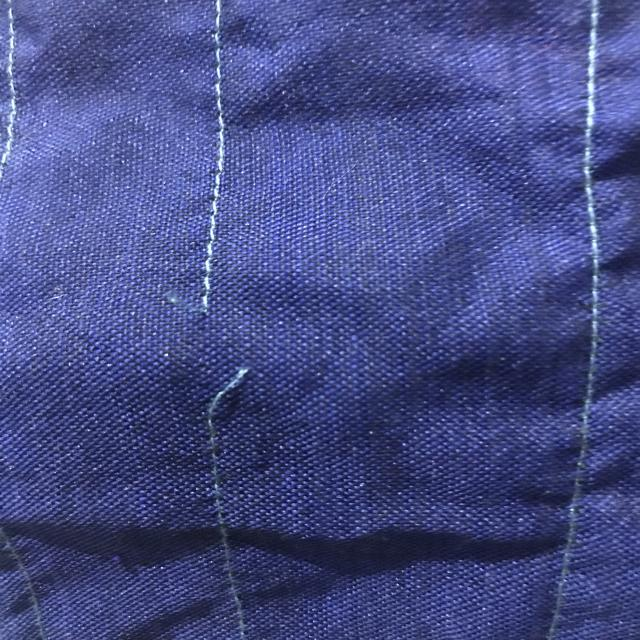broken: (176, 280, 264, 438)
good: (200, 138, 238, 238)
